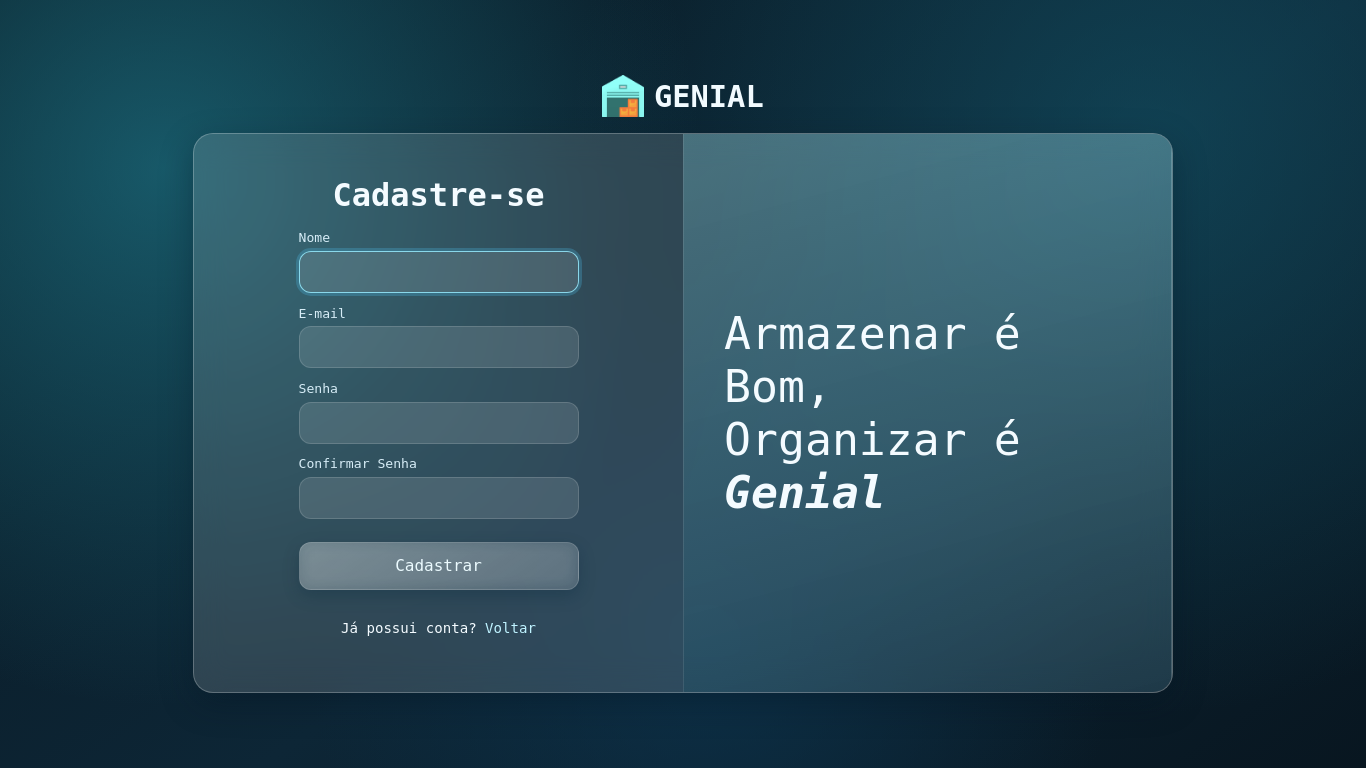
Test: Cadastrar page › deve exibir erro quando API retornar falha
This screenshot has width=1366, height=768.
Type "Usuário Teste" into the field labelled "Nome" at (438, 272), box [298,251,578,293]
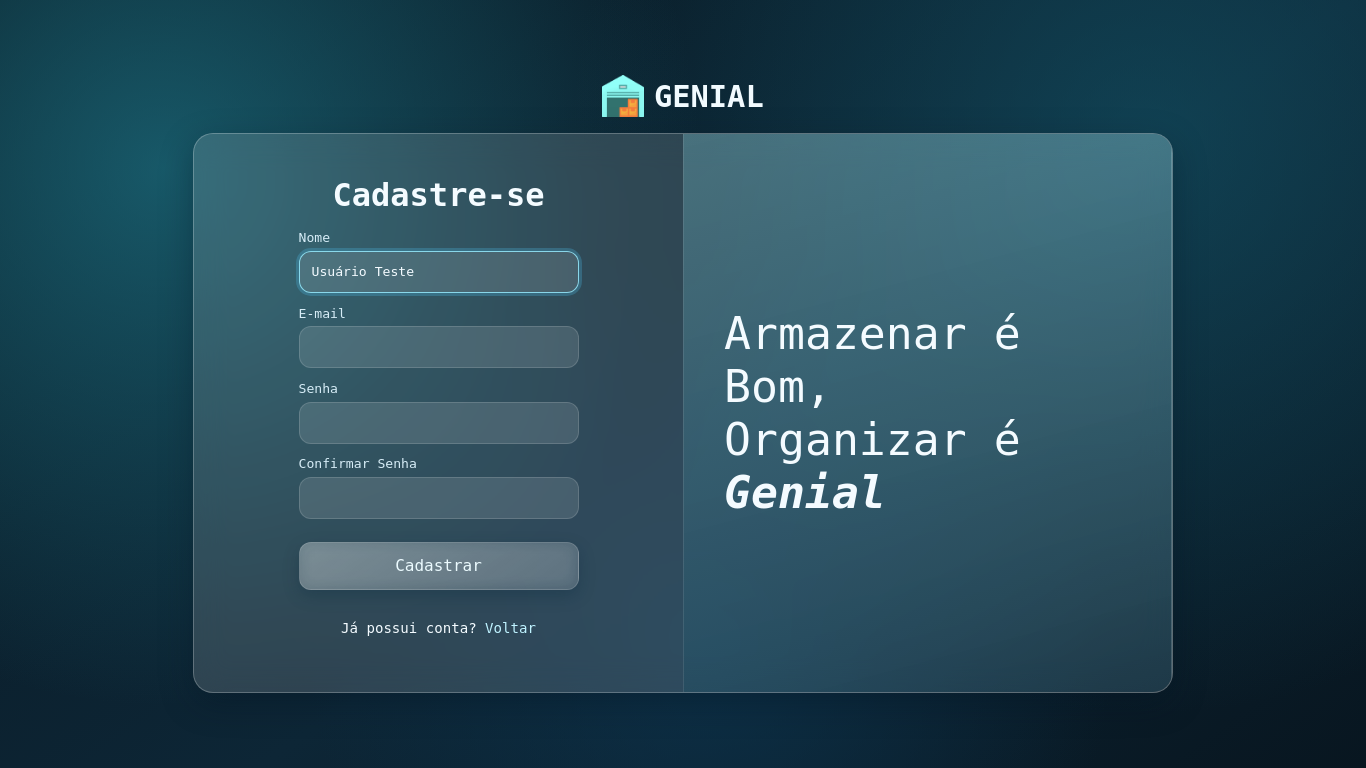
Type "user@genial.com" into the field labelled "E-mail" at (438, 347), box [298,326,578,368]
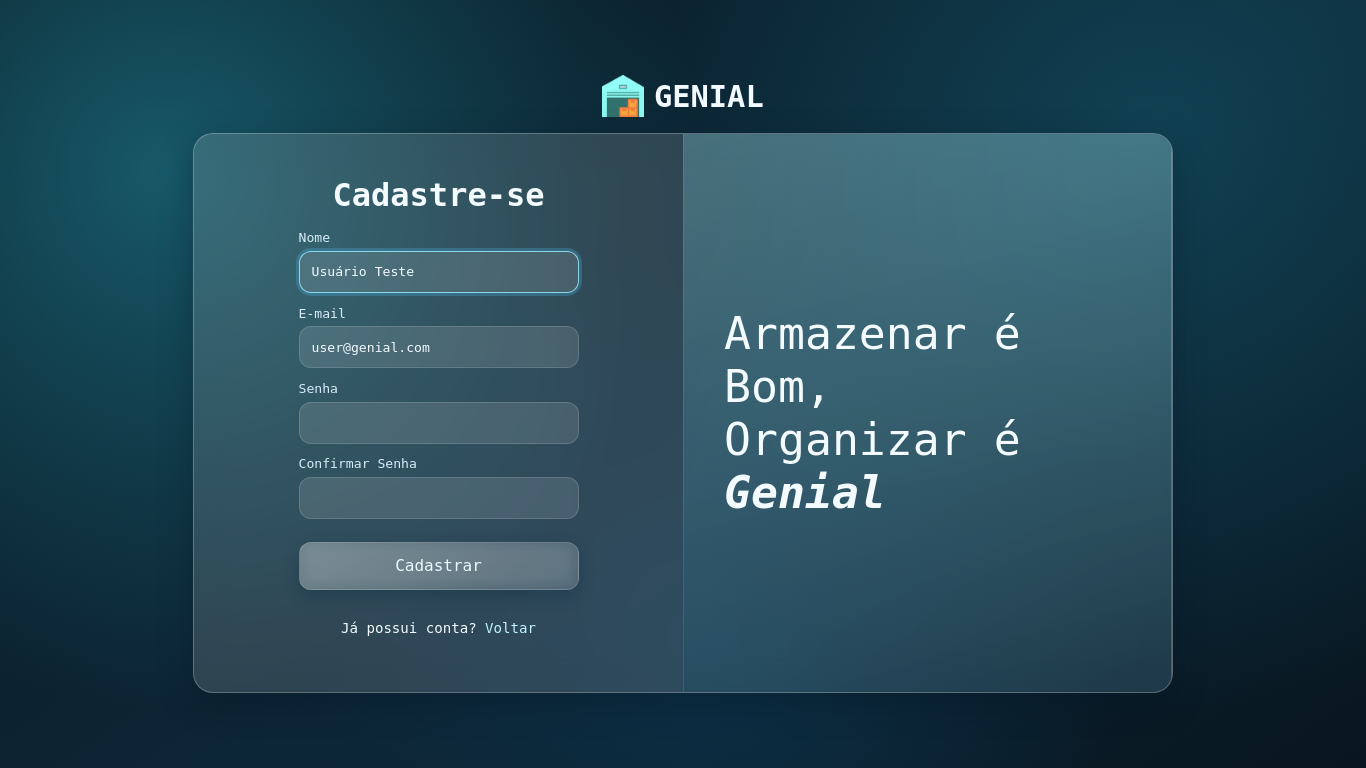
Type "123456" into the password field labelled "Senha" at (438, 422), box [298,402,578,444]
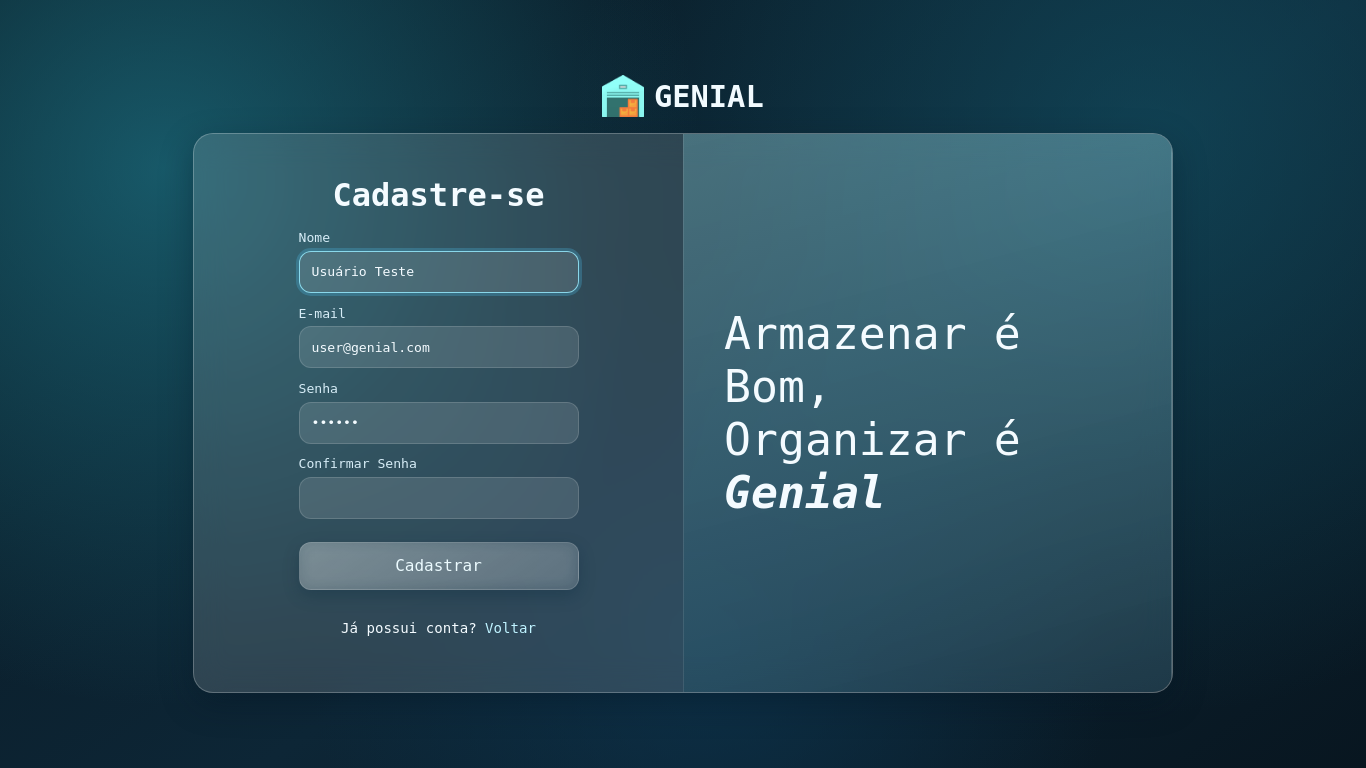
Type "123456" into the password field labelled "Confirmar Senha" at (438, 498), box [298,477,578,519]
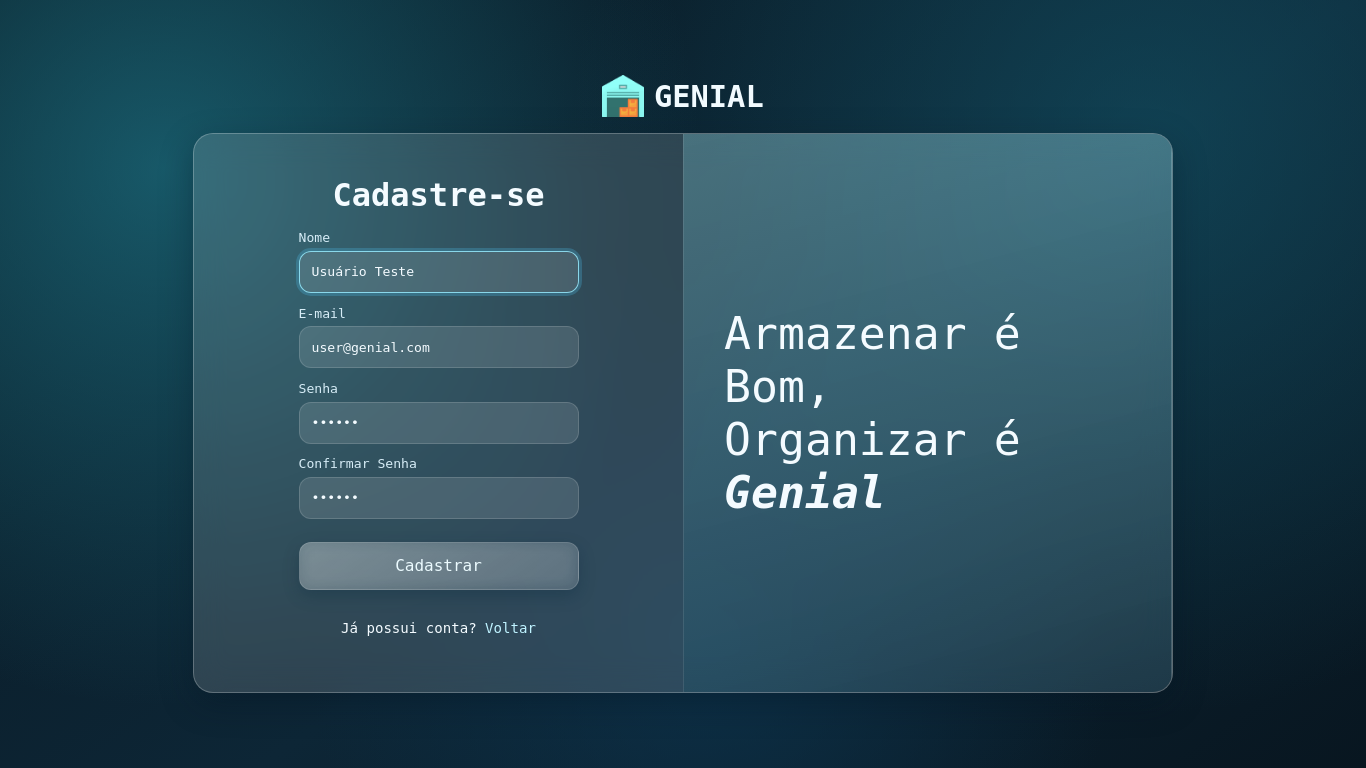
Click the button "Cadastrar" at (438, 566), box [298,542,578,590]
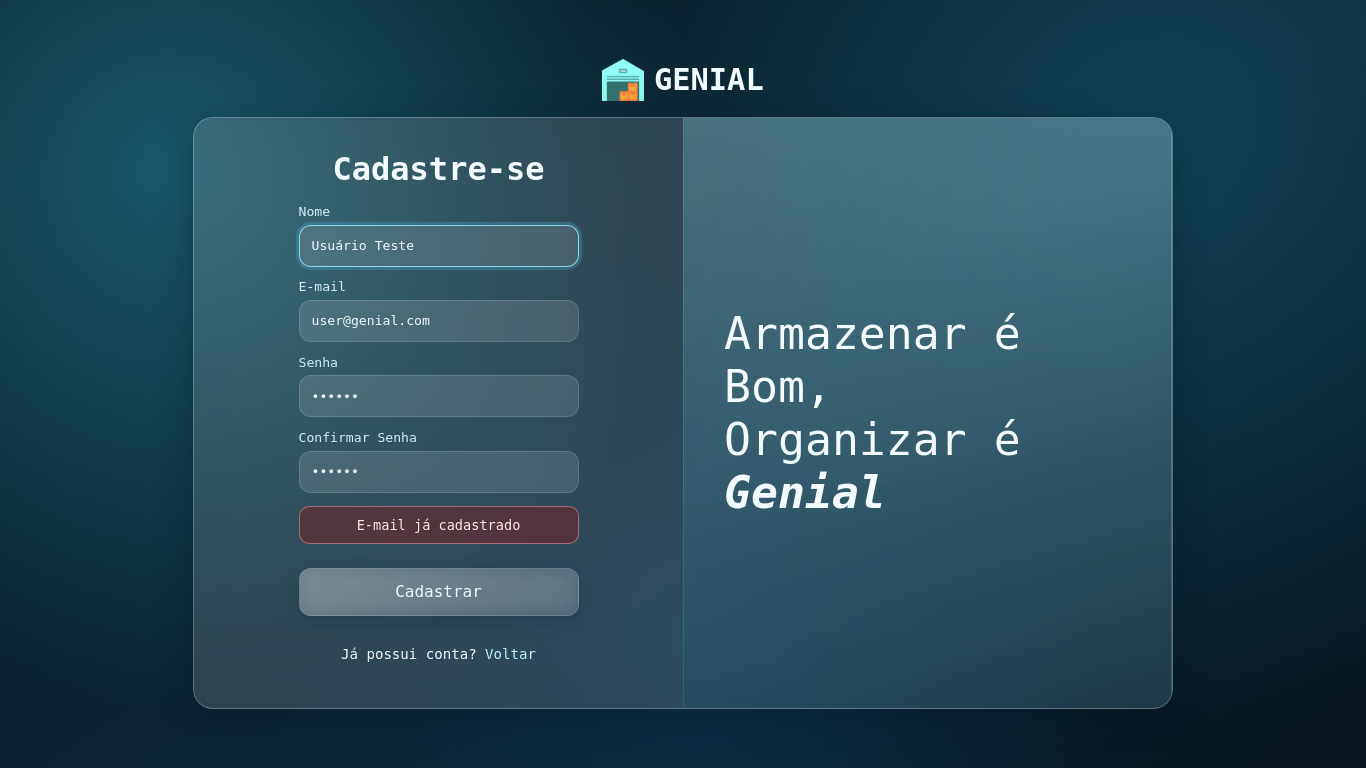
Now the text "E-mail já cadastrado" is shown, box [298,506,578,544]
